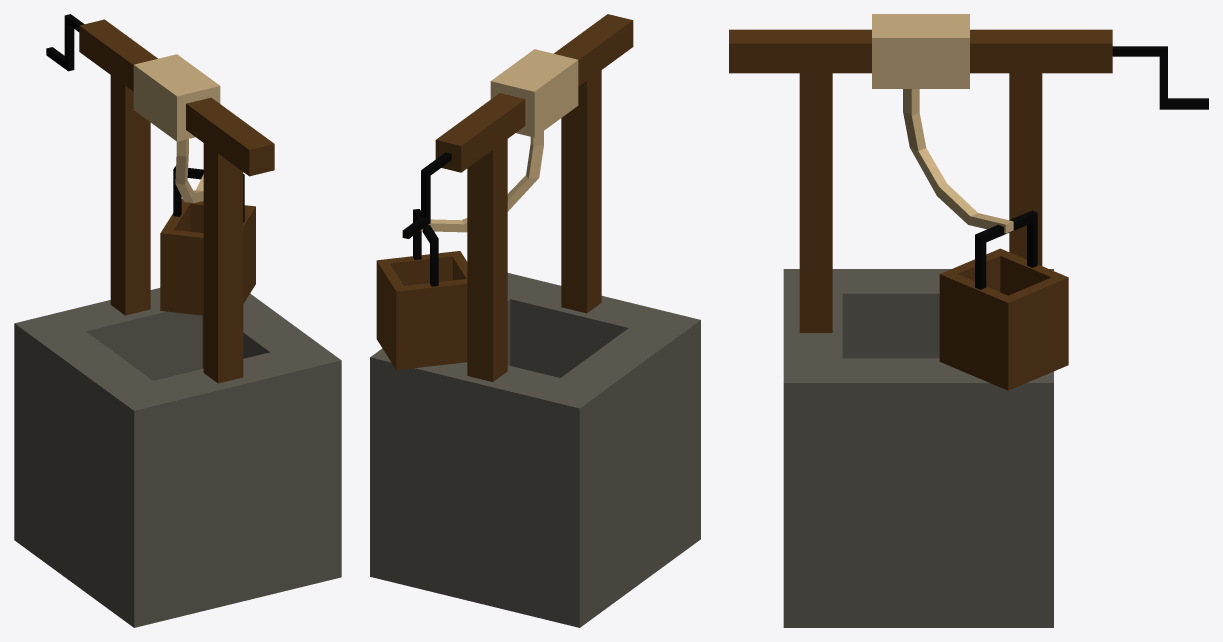
Rendered from FarmWell.fbx.
3 views of the same model, side by side, from view 1: azimuth 30°, elevation 25°; view 2: azimuth 150°, elevation 25°; view 3: azimuth 270°, elevation 25° (orthographic). The views are drawn at different scales.
Visible parts, largest first — view 1: FarmWell; view 2: FarmWell; view 3: FarmWell.
Part boxes in pixels (bbox=[...]): FarmWell: bbox=[14, 14, 341, 627]; FarmWell: bbox=[370, 14, 700, 627]; FarmWell: bbox=[729, 14, 1208, 627].
Size of the model in its own units: 0.2042 by 0.4257 by 0.3396.
